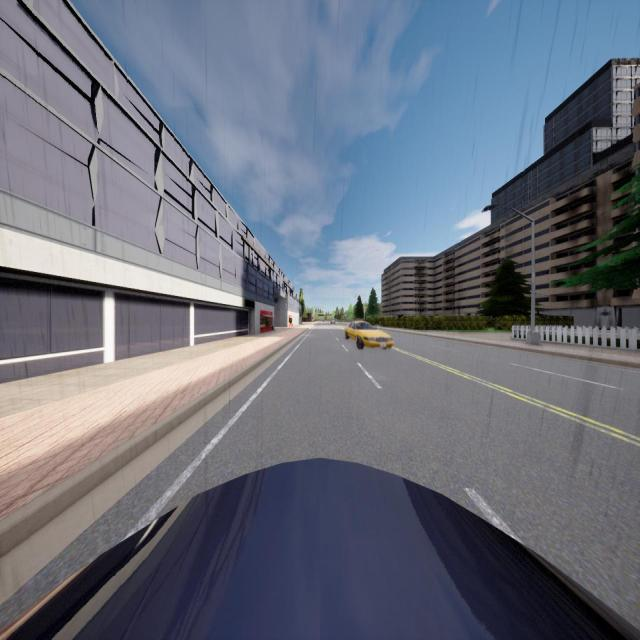Vehicle: (0, 456, 639, 639), (344, 318, 393, 348), (330, 318, 336, 325)
